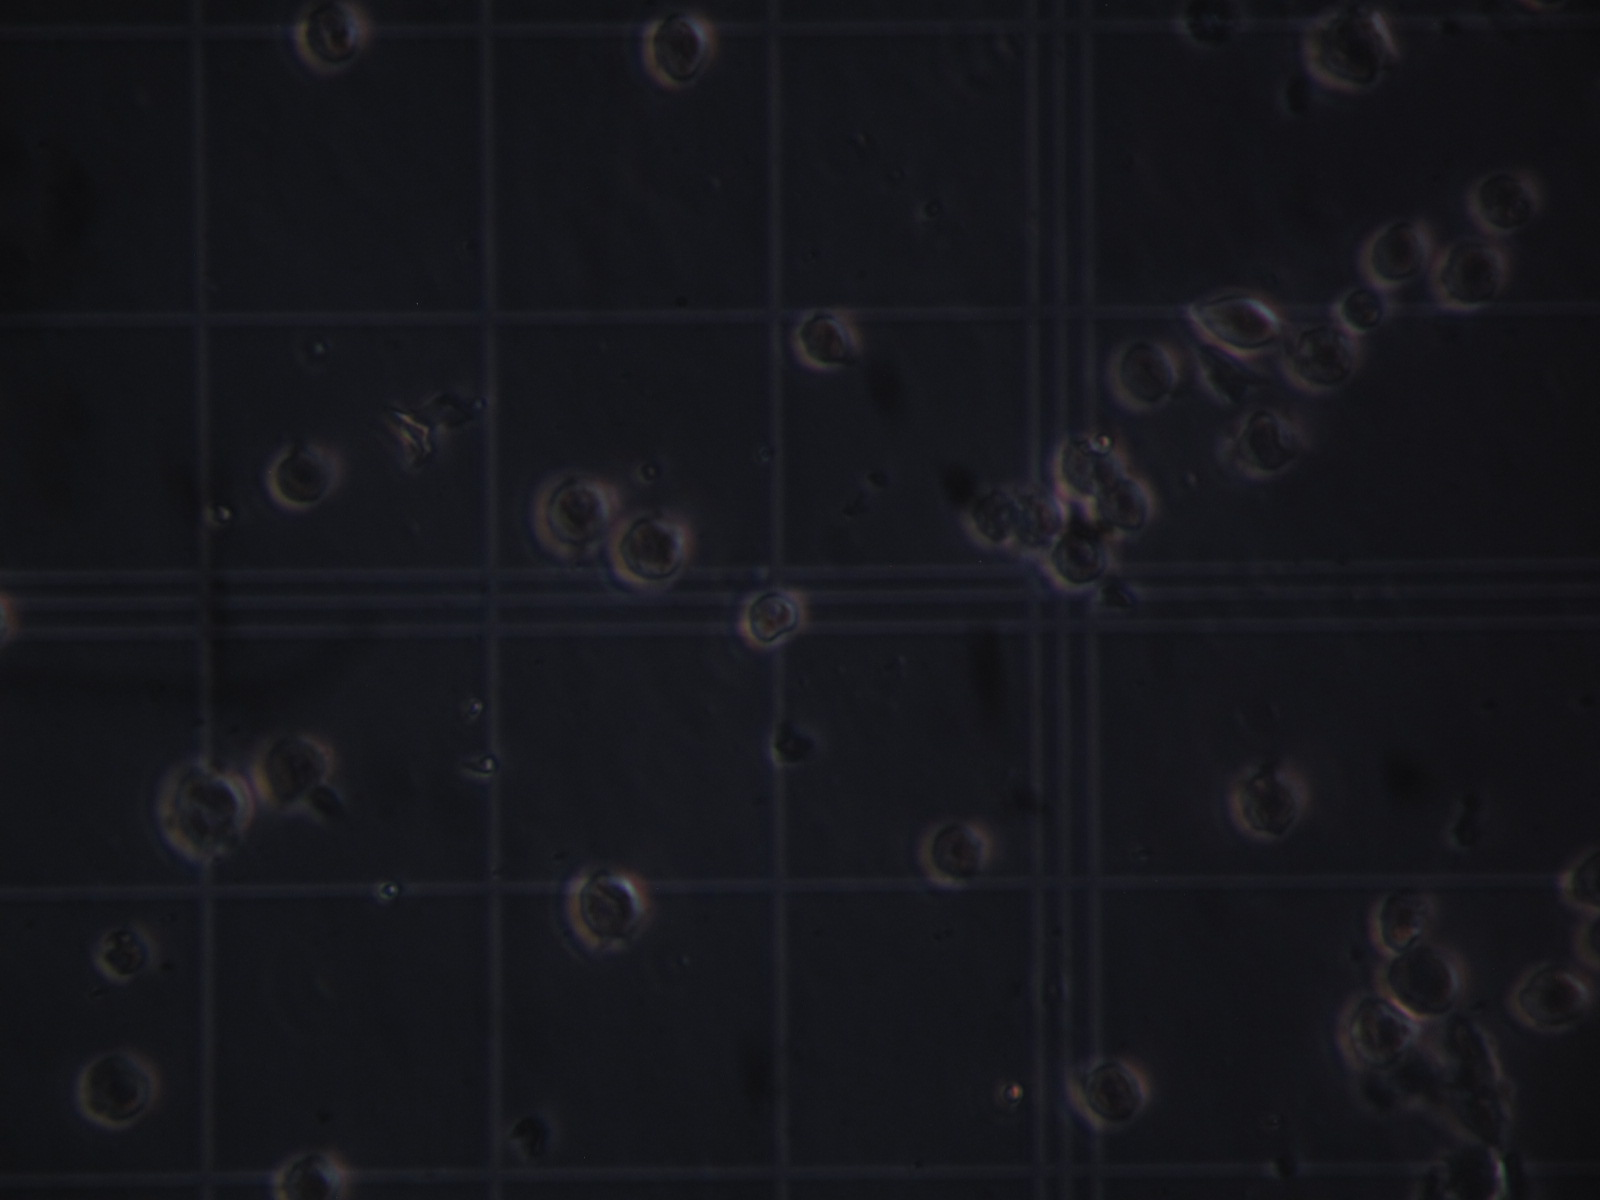hemo: (159, 758, 256, 868), (566, 862, 653, 955), (532, 471, 620, 556), (609, 509, 694, 594), (1228, 759, 1309, 841), (1306, 10, 1387, 92), (1184, 294, 1283, 361), (1335, 993, 1419, 1071), (1377, 947, 1465, 1020), (260, 734, 338, 814), (1281, 320, 1362, 396), (1506, 963, 1589, 1036), (79, 1053, 155, 1131), (1067, 1058, 1148, 1131), (1431, 237, 1507, 313), (1109, 335, 1180, 413), (641, 14, 716, 87), (295, 1, 368, 74), (1231, 403, 1298, 482), (1054, 431, 1128, 500), (1042, 527, 1117, 594), (270, 442, 344, 509), (920, 821, 990, 890), (1359, 221, 1432, 286), (1010, 479, 1070, 560), (1089, 476, 1160, 541), (740, 586, 809, 652), (1369, 884, 1432, 955), (792, 308, 859, 374), (1466, 171, 1540, 232), (92, 920, 159, 984), (961, 479, 1022, 550), (272, 1148, 349, 1200), (1173, 1, 1249, 53), (1330, 284, 1393, 334)
